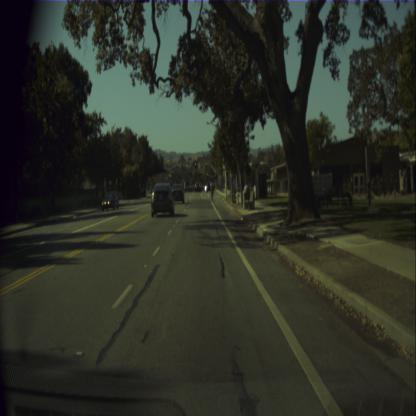Red: (194, 162, 196, 167), (214, 173, 216, 178), (205, 162, 207, 166), (206, 172, 208, 176)
Yellow: (198, 170, 200, 173)
